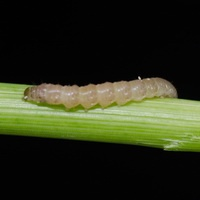insect: (23, 78, 177, 109)
